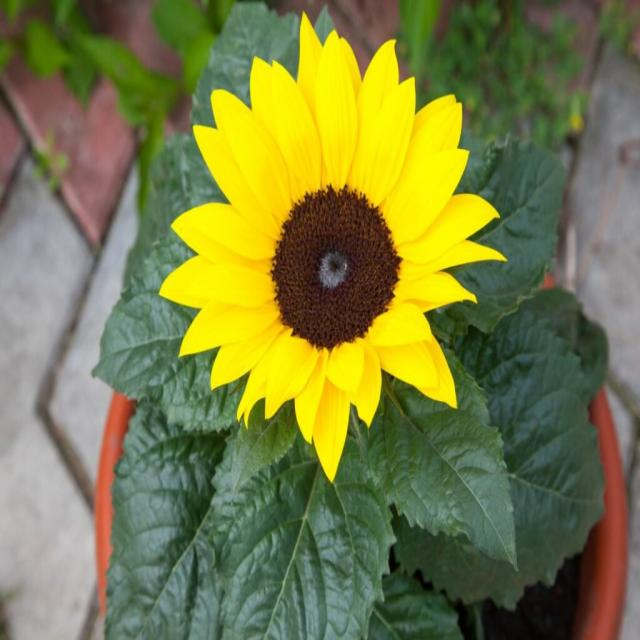sunflower: (158, 11, 508, 483)
